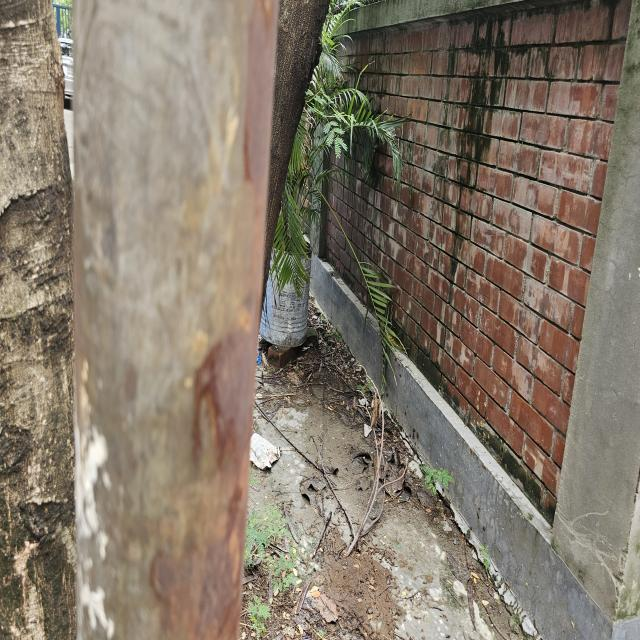artificial_container: (259, 230, 313, 349)
